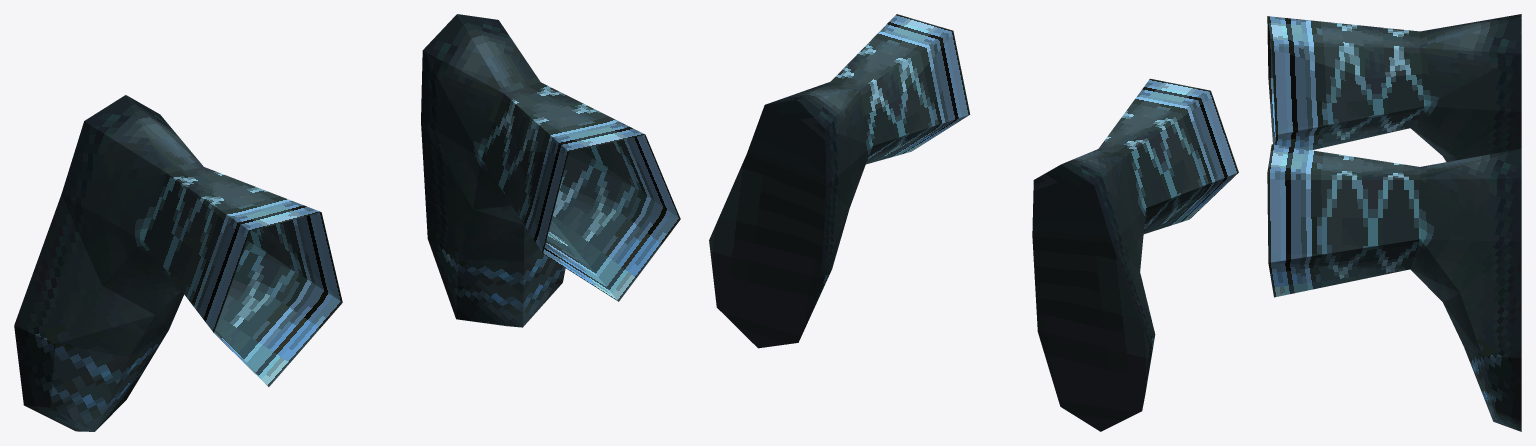
The model's file is taoist_shoe_male_48010.obj.
The picture shows the model from 3 angles, left to right: view 1: azimuth 30°, elevation 25°; view 2: azimuth 150°, elevation 25°; view 3: azimuth 270°, elevation 25°; orthographic projection. The views are drawn at different scales.
Visible parts, largest first — view 1: taoist_shoe_male_48010; view 2: taoist_shoe_male_48010; view 3: taoist_shoe_male_48010.
Part boxes in pixels (x1,y1,x2,y2): taoist_shoe_male_48010: (14,14,680,431); taoist_shoe_male_48010: (709,14,1238,431); taoist_shoe_male_48010: (1267,14,1521,431).
Bounding box in the file's own units: 27.3 × 15.26 × 13.35.
Materials: 1 (1 with a texture image).
